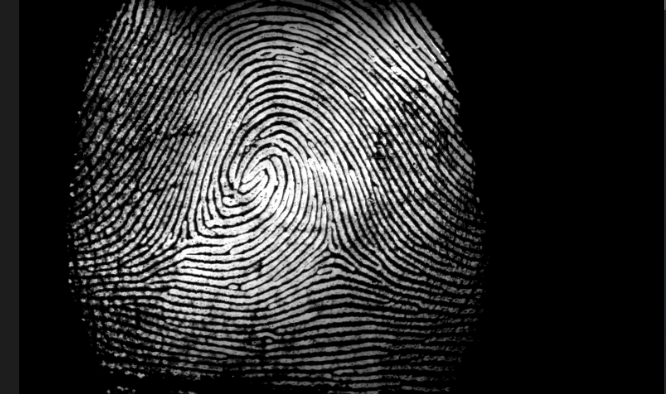deltas: (158, 208, 222, 264), (308, 222, 357, 276)
nucleo: (226, 146, 291, 199)
